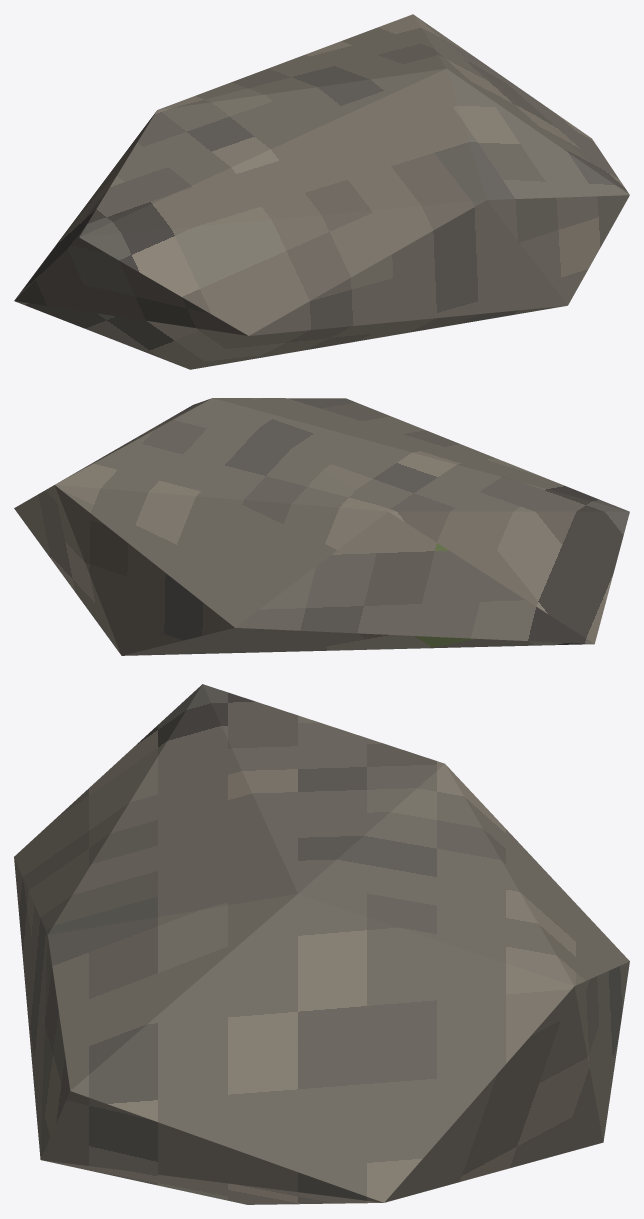
Rendered from rock_small.glb.
3 views of the same model, one above another, from view 1: azimuth 30°, elevation 25°; view 2: azimuth 150°, elevation 25°; view 3: azimuth 270°, elevation 25° (orthographic). The views are drawn at different scales.
Parts seen in each view (by area): view 1: rock_small; view 2: rock_small; view 3: rock_small.
Boxes of the visible parts, x1,y1,x2,y2 form: rock_small: (14,14,629,369); rock_small: (14,398,629,655); rock_small: (14,684,629,1204).
Size of the model in its own units: 0.4281 by 0.1565 by 0.2764.
1 material, 1 textured.
